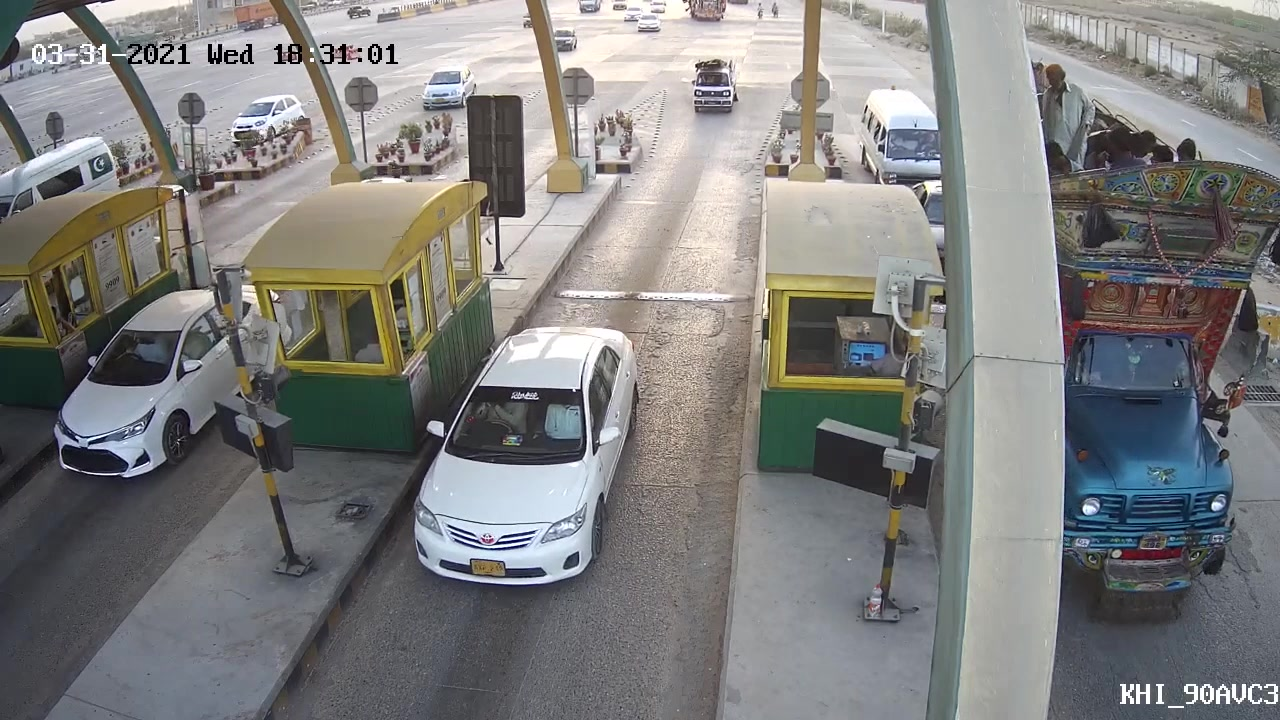F1: (406, 324, 645, 601)
